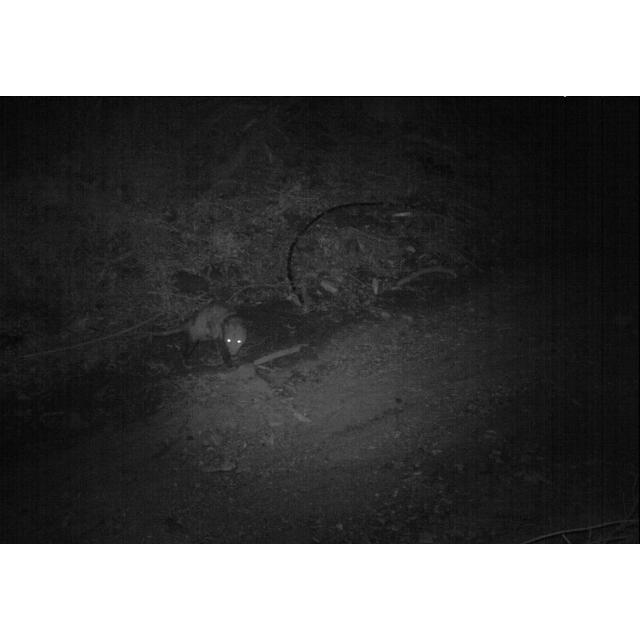animals: (146, 301, 250, 359)
